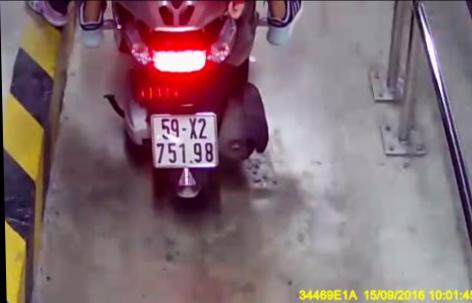LP: (149, 113, 219, 168)
